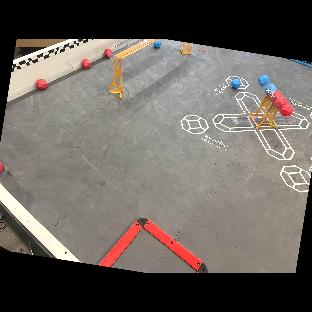V5_BLUE: (231, 78, 241, 90), (155, 43, 161, 49)
V5_RED: (36, 79, 47, 89), (82, 60, 91, 68), (104, 50, 113, 56)
blueingoal: (257, 75, 269, 85), (267, 83, 277, 95)
redingoal: (280, 104, 293, 116), (274, 97, 288, 107), (269, 92, 282, 100)
